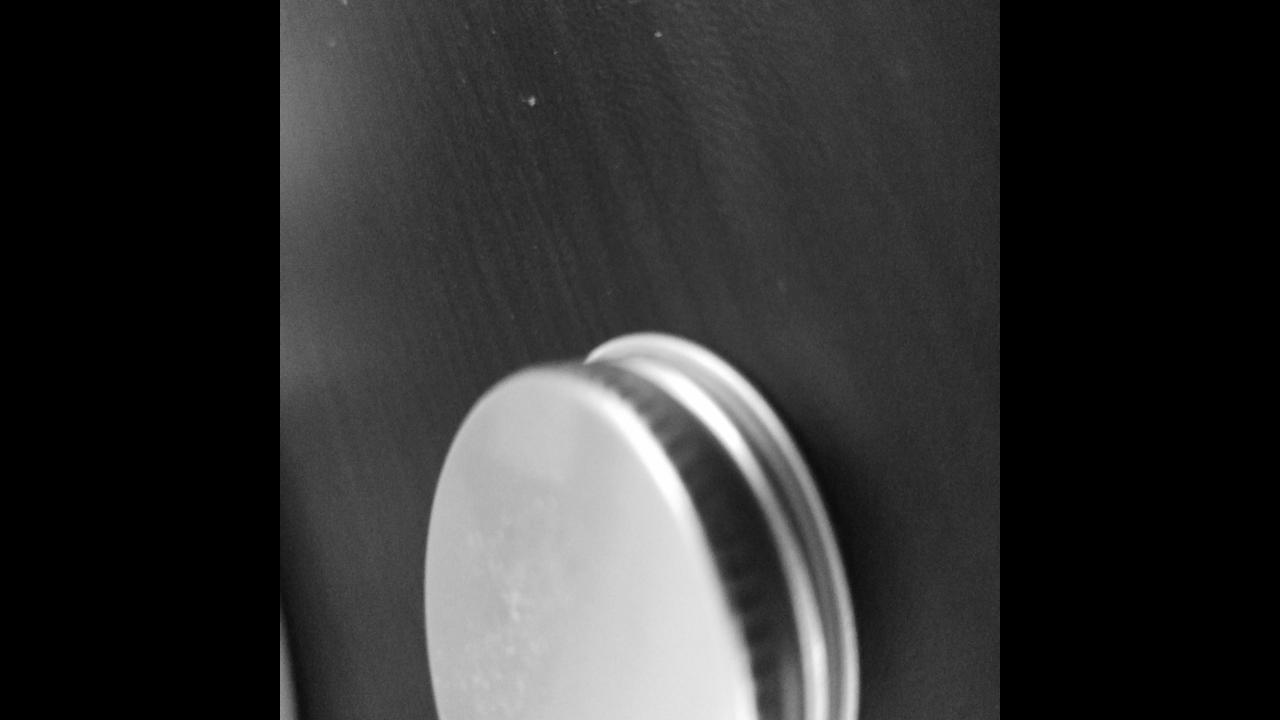bottle_cap: (430, 329, 857, 720)
